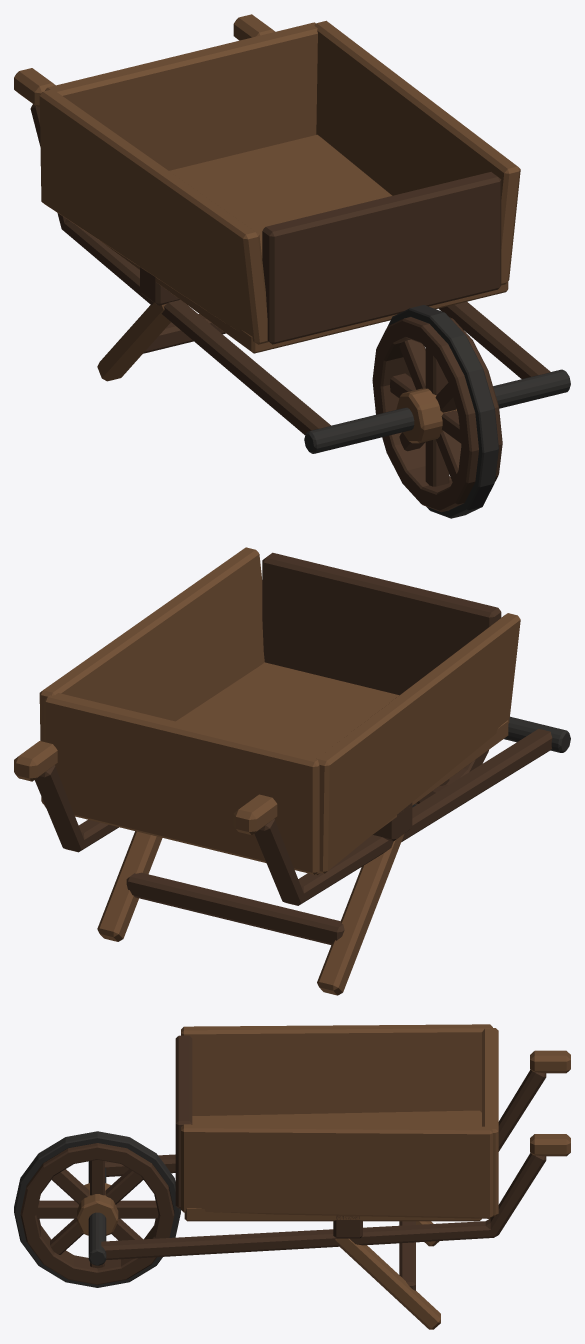
File: wheelbarrow.glb
3 renders of one model, top to bottom at view 1: azimuth 30°, elevation 25°; view 2: azimuth 150°, elevation 25°; view 3: azimuth 270°, elevation 25°, orthographic. The views are drawn at different scales.
Visible parts, largest first — view 1: wheelbarrow; view 2: wheelbarrow; view 3: wheelbarrow.
Part boxes in pixels (x1,y1,x2,y2): wheelbarrow: [14, 14, 570, 518]; wheelbarrow: [14, 547, 570, 995]; wheelbarrow: [14, 1024, 570, 1329].
Size of the model in its own units: 0.7001 by 0.62 by 1.5.
